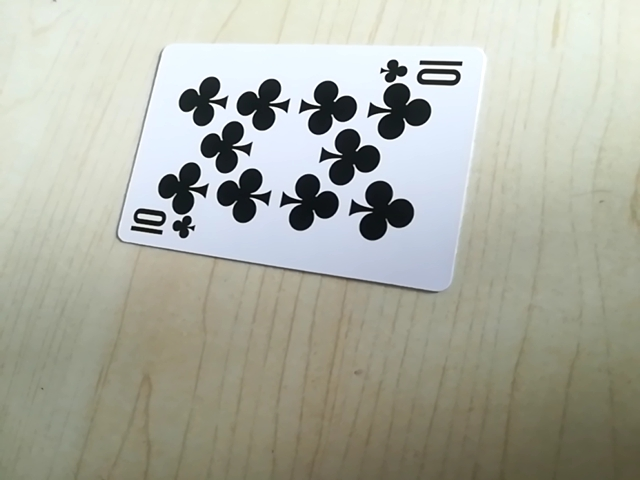mh 10: (378, 53, 468, 89), (124, 211, 196, 246)
